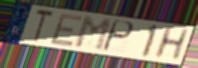1: (139, 23, 159, 59)
E: (48, 13, 85, 48)
H: (152, 25, 191, 61)
M: (73, 15, 114, 53)
P: (100, 19, 136, 54)
T: (31, 7, 56, 44)
